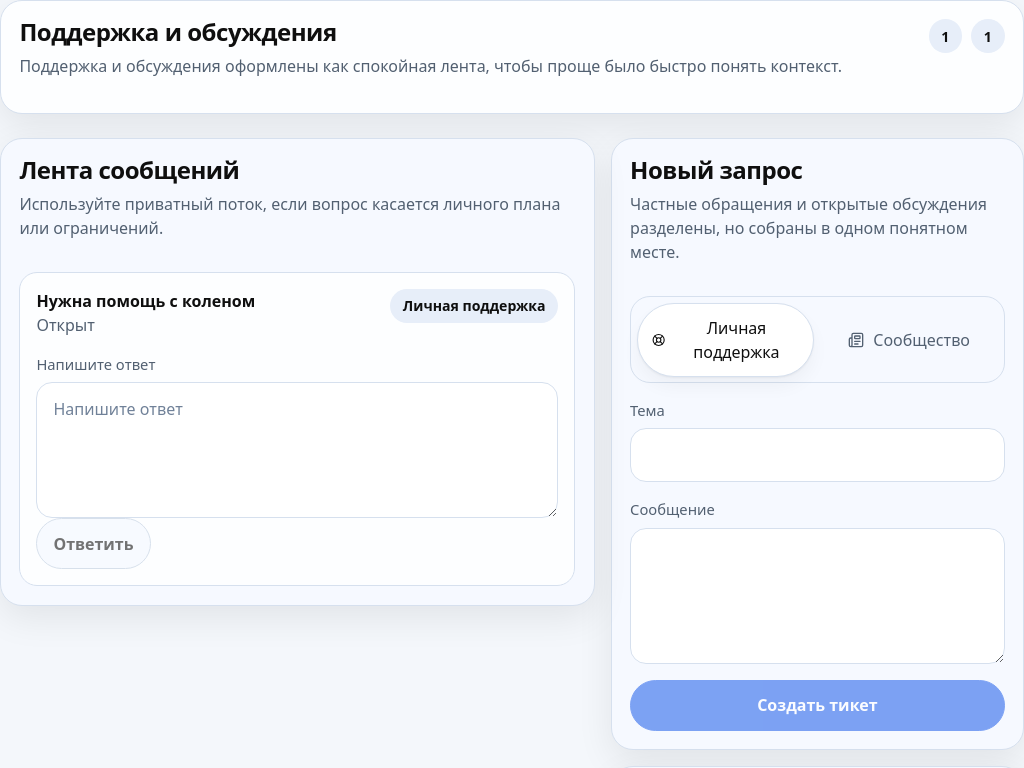
renders support as a feed with a category select
Expected: the heading "Поддержка и обсуждения" is shown, [19,15,337,48]
Expected: the button "Личная поддержка" is shown, [637,302,814,376]
Click the button "Сообщество". click: (909, 340)
box: [820,302,998,376]
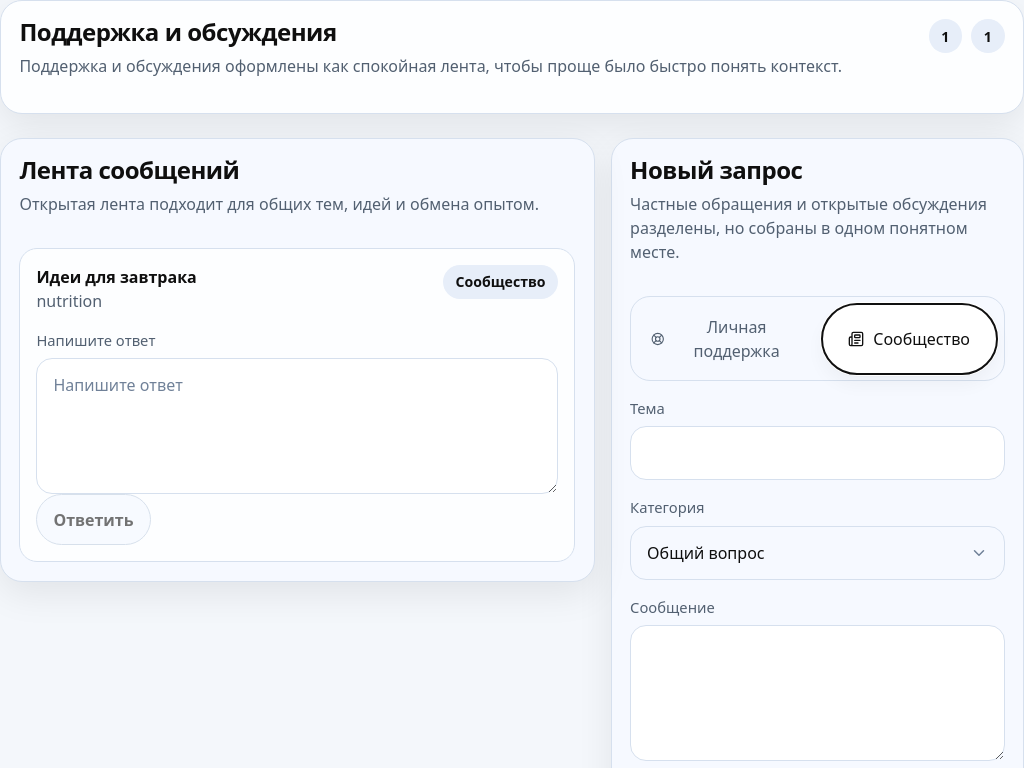
Expected: the dropdown labelled "Категория" is shown, [631,527,1004,579]
Expected: the text "Идеи для завтрака" is shown, [36,266,197,288]
